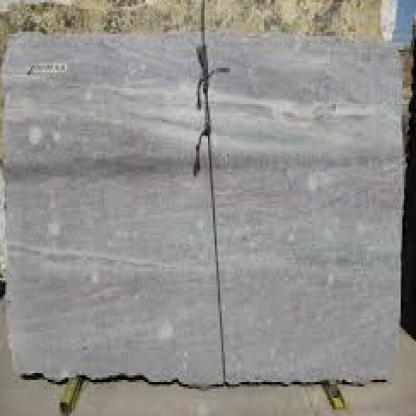Metamorphic_Quartize: (5, 18, 409, 387)
